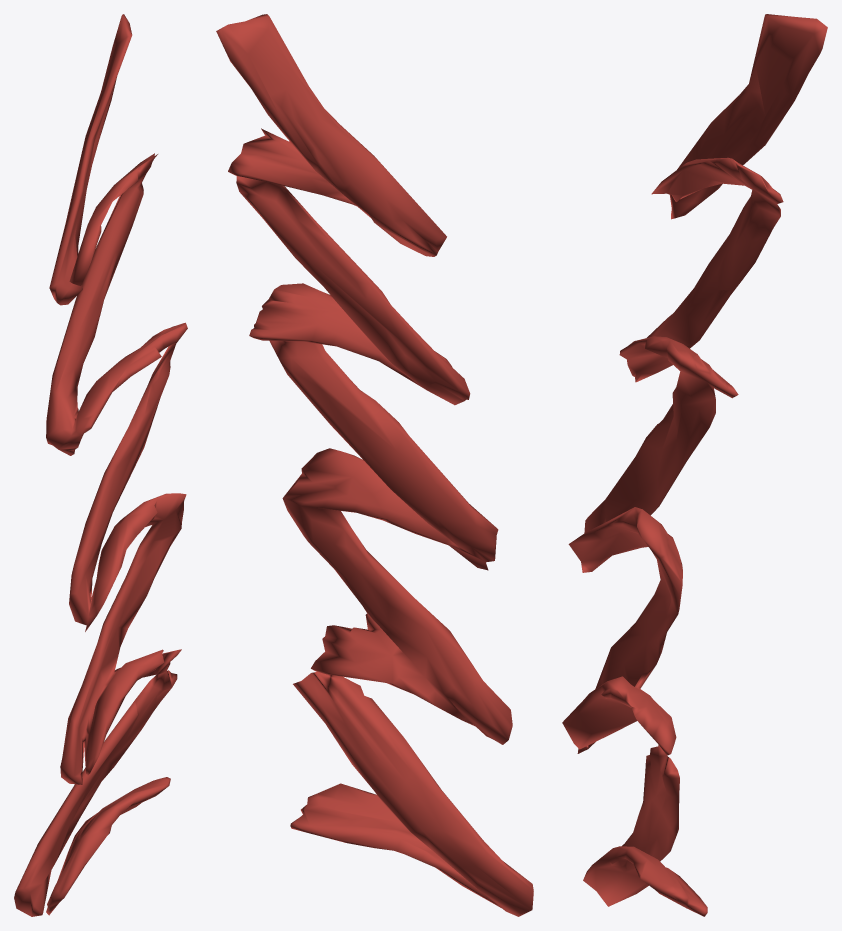
Rendered from musculos-multifidus-lumborum-muscle-r.glb.
The picture shows the model from 3 angles, left to right: view 1: azimuth 30°, elevation 25°; view 2: azimuth 150°, elevation 25°; view 3: azimuth 270°, elevation 25°; orthographic projection. The views are drawn at different scales.
Parts seen in each view (by area): view 1: Multifidus lumborum muscle.r; view 2: Multifidus lumborum muscle.r; view 3: Multifidus lumborum muscle.r.
Part boxes in pixels (x1,y1,x2,y2): Multifidus lumborum muscle.r: [14, 14, 187, 916]; Multifidus lumborum muscle.r: [216, 14, 533, 916]; Multifidus lumborum muscle.r: [562, 14, 827, 916].
Size of the model in its own units: 0.0426 by 0.1615 by 0.0396.
